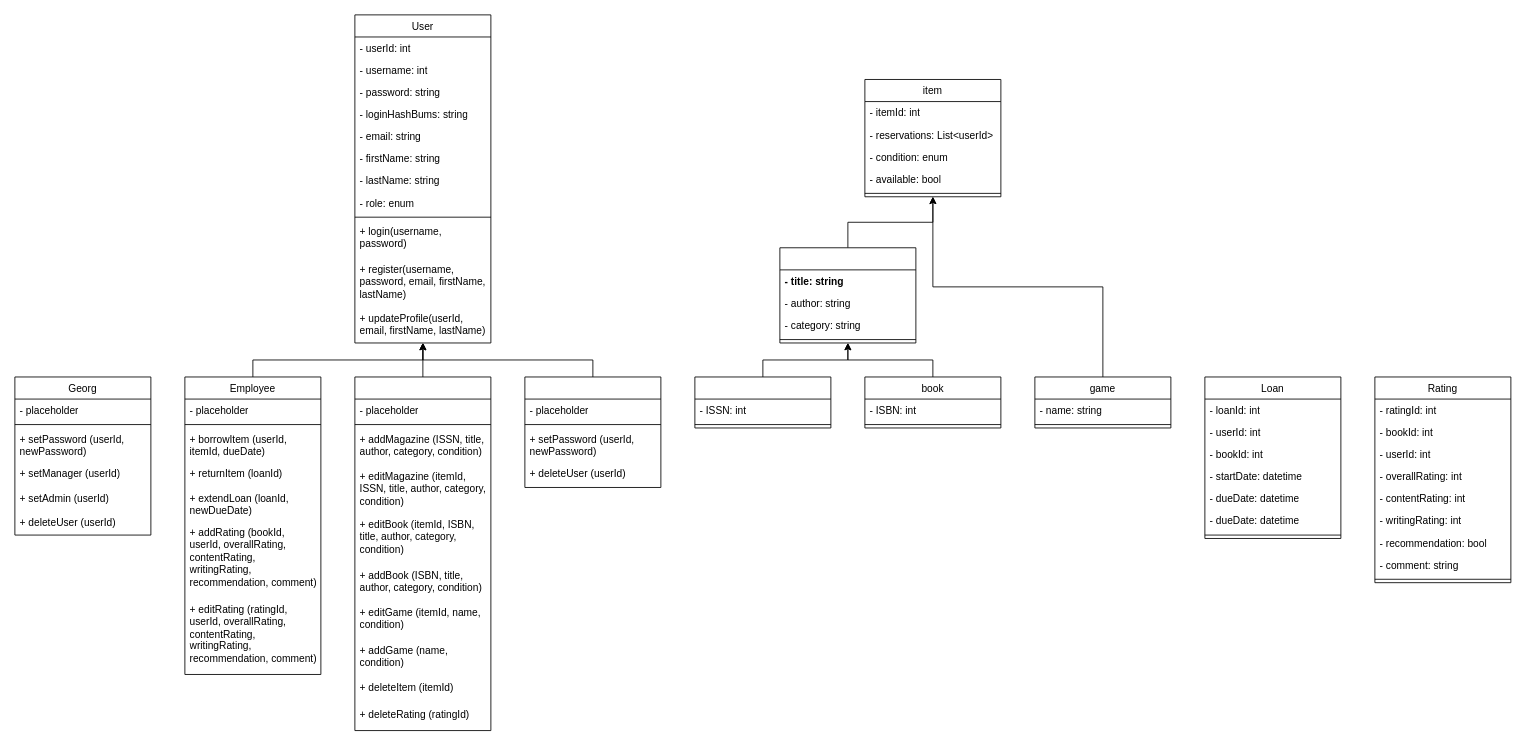
This 1526x748 diagram has some shape labels left out. The box of each missing label's shape, as (x1, y1, x2, y2) in pixels:
Admin: (524, 376, 661, 487)
lese bums: (779, 247, 916, 343)
magazine: (694, 376, 831, 428)
Manager: (354, 376, 491, 731)
